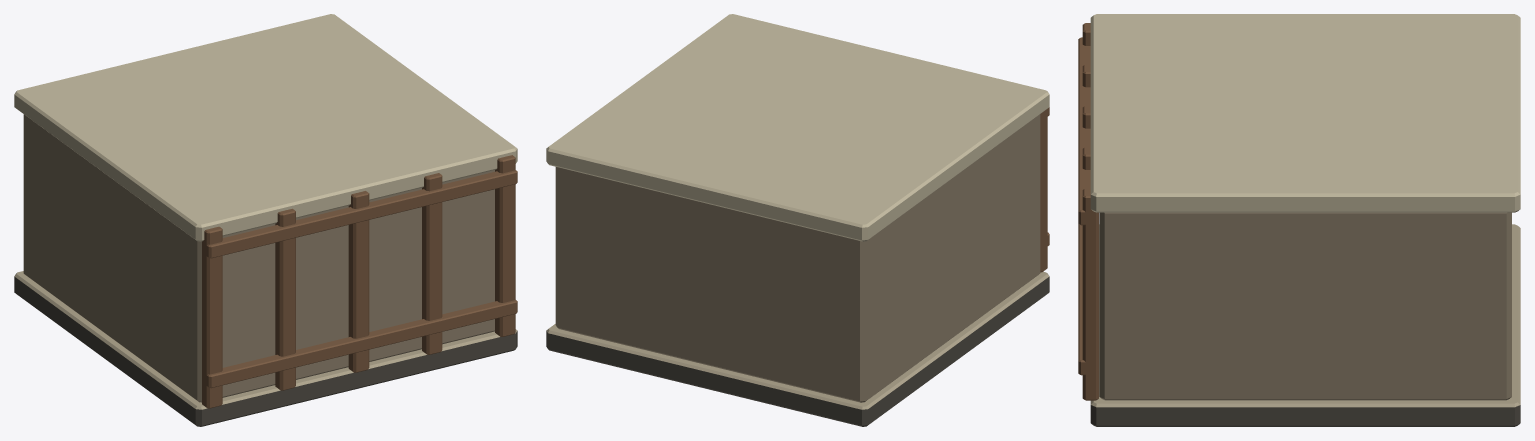
The model's file is platform.glb.
The picture shows the model from 3 angles, left to right: view 1: azimuth 30°, elevation 25°; view 2: azimuth 150°, elevation 25°; view 3: azimuth 270°, elevation 25°; orthographic projection. The views are drawn at different scales.
Visible parts, largest first — view 1: platform__body; view 2: platform__body; view 3: platform__body.
Boxes of the visible parts, x1,y1,x2,y2 form: platform__body: (14,14,517,426); platform__body: (546,14,1049,426); platform__body: (1078,14,1520,426).
Bounding box in the file's own units: 2 × 1.2 × 2.06.
